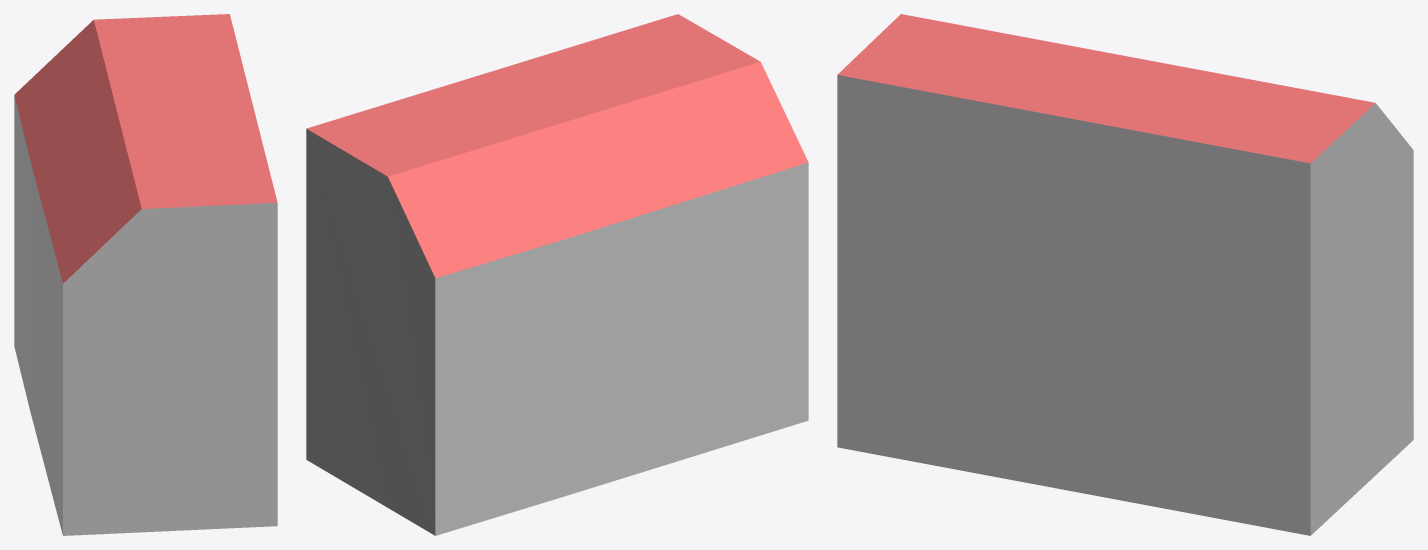
Rendered from DEBY_LOD2_4908139.gltf.
3 renders of one model, left to right at view 1: azimuth 30°, elevation 25°; view 2: azimuth 150°, elevation 25°; view 3: azimuth 270°, elevation 25°, orthographic. The views are drawn at different scales.
Parts seen in each view (by area): view 1: Z_UP; view 2: Z_UP; view 3: Z_UP.
Boxes of the visible parts, bbox=[...] form: Z_UP: bbox=[14, 14, 277, 535]; Z_UP: bbox=[306, 14, 808, 535]; Z_UP: bbox=[837, 14, 1413, 535].
Size of the model in its own units: 12.22 by 11.49 by 16.11.
